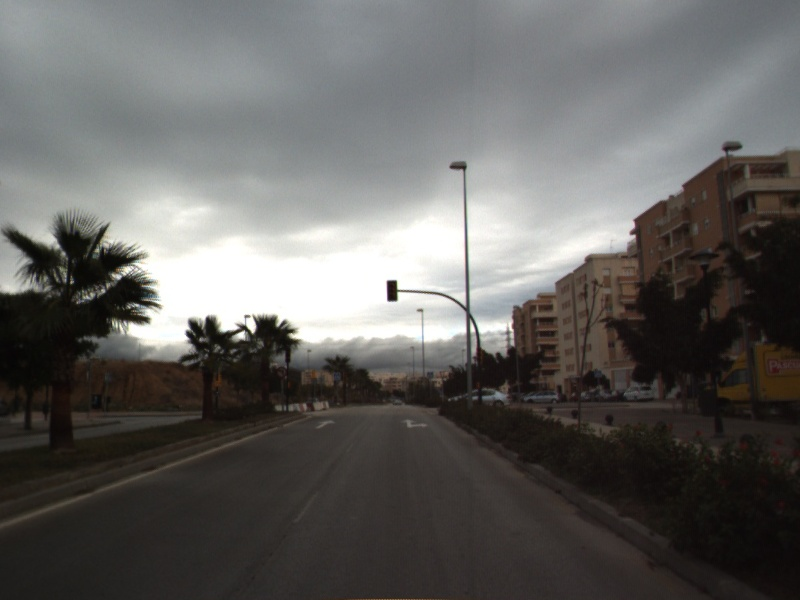STRAIGHT: (314, 417, 338, 431)
STRAIGHT_RIGHT: (399, 417, 430, 430)
